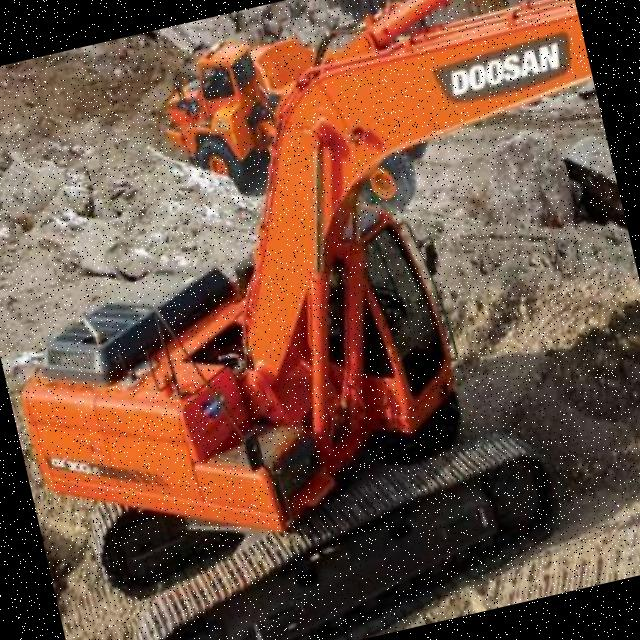Dump Truck: (146, 17, 336, 202)
Excavator: (0, 0, 640, 640)
